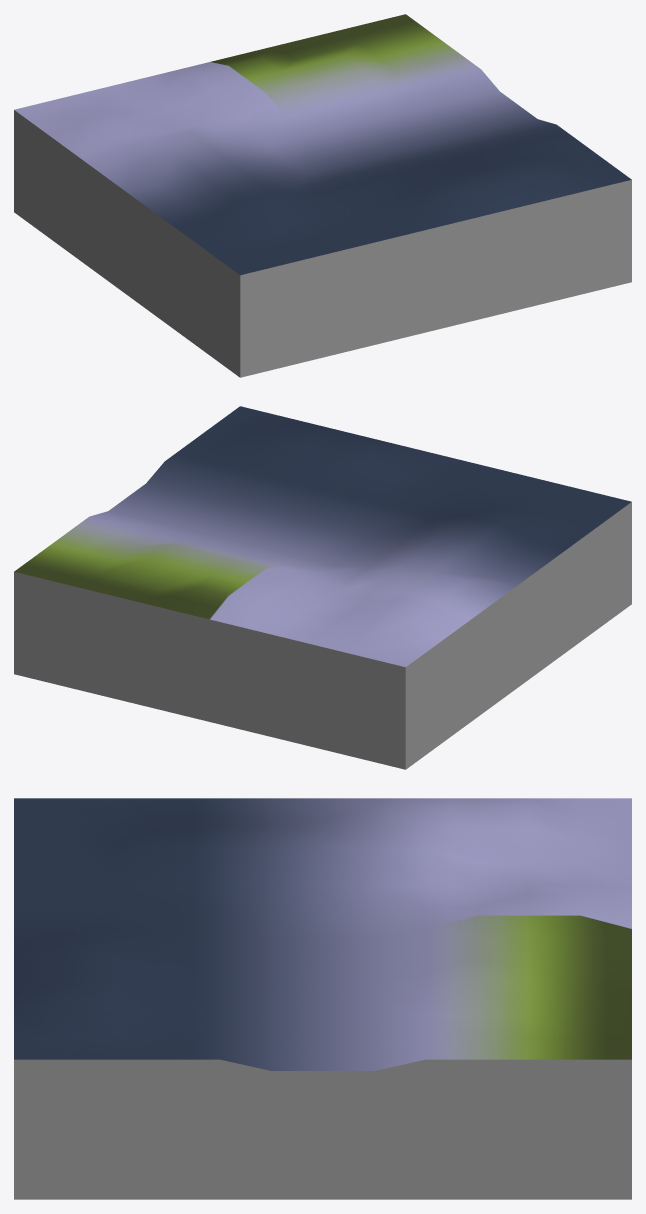
The model's file is PathHillDeadEnd.fbx.
3 views of the same model, one above another, from view 1: azimuth 30°, elevation 25°; view 2: azimuth 150°, elevation 25°; view 3: azimuth 270°, elevation 25° (orthographic). The views are drawn at different scales.
Parts seen in each view (by area): view 1: PathHillDeadEnd; view 2: PathHillDeadEnd; view 3: PathHillDeadEnd.
Part boxes in pixels (x1,y1,x2,y2): PathHillDeadEnd: (14,14,631,377); PathHillDeadEnd: (14,406,631,769); PathHillDeadEnd: (14,798,631,1199).
Bounding box in the file's own units: 1200 × 329 × 1200.
